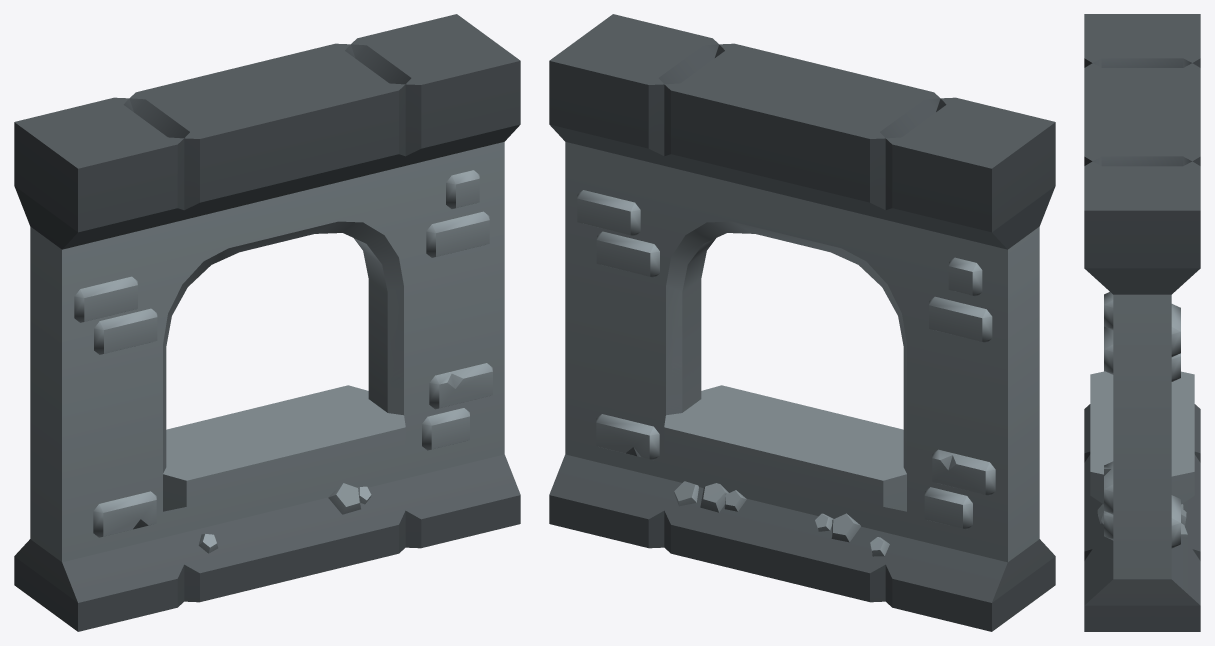
The model's file is dg_wall_archedwindow_open.glb.
3 renders of one model, left to right at view 1: azimuth 30°, elevation 25°; view 2: azimuth 150°, elevation 25°; view 3: azimuth 270°, elevation 25°, orthographic. The views are drawn at different scales.
Visible parts, largest first — view 1: wall_archedwindow_open; view 2: wall_archedwindow_open; view 3: wall_archedwindow_open.
Boxes of the visible parts, left/top/right/bottom form: wall_archedwindow_open: left=14, top=14, right=520, bottom=631; wall_archedwindow_open: left=549, top=14, right=1055, bottom=631; wall_archedwindow_open: left=1084, top=14, right=1200, bottom=631.
Bounding box in the file's own units: 4 × 4 × 1.
Materials: 1 (1 with a texture image).
